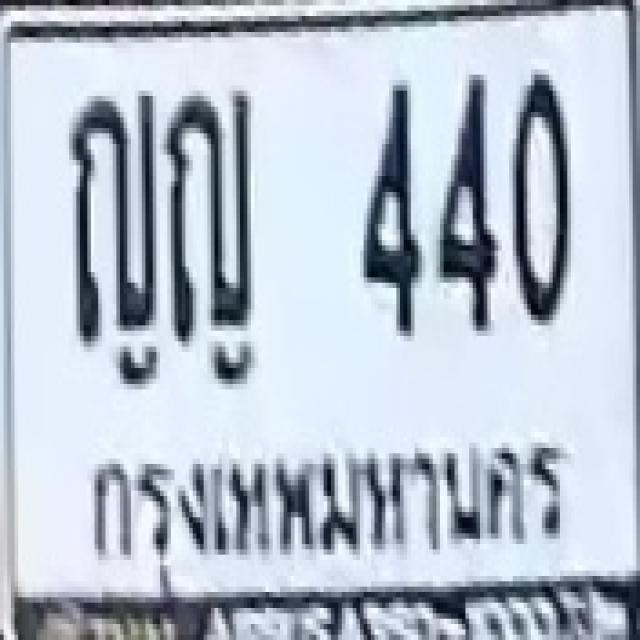0: (509, 70, 571, 326)
4: (434, 69, 496, 331), (360, 72, 422, 333)
A13: (163, 88, 254, 349), (66, 88, 156, 349)
BKK: (81, 414, 567, 561)
